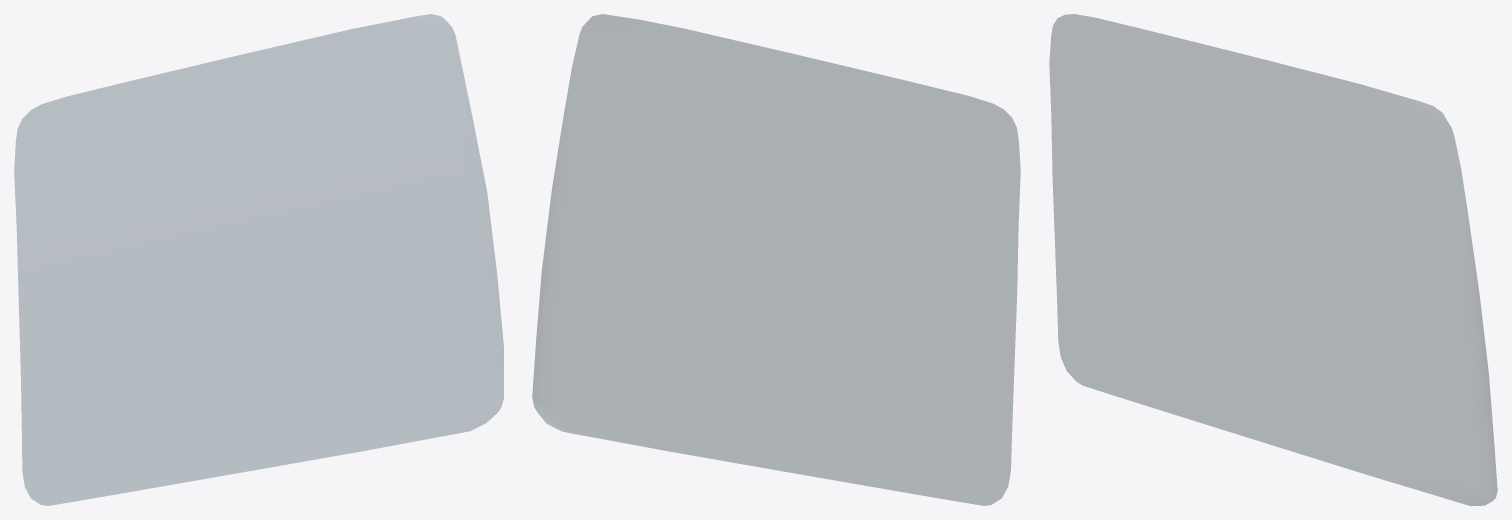
3 views of the same model, side by side, from view 1: azimuth 30°, elevation 25°; view 2: azimuth 150°, elevation 25°; view 3: azimuth 330°, elevation 25° (orthographic). The views are drawn at different scales.
Visible parts, largest first — view 1: SM_EuropeanHGV_Door_FL_Glass_Int2; view 2: SM_EuropeanHGV_Door_FL_Glass_Int2; view 3: SM_EuropeanHGV_Door_FL_Glass_Int2.
Boxes of the visible parts, <box> form: SM_EuropeanHGV_Door_FL_Glass_Int2: <box>14,14,503,505</box>; SM_EuropeanHGV_Door_FL_Glass_Int2: <box>532,14,1020,505</box>; SM_EuropeanHGV_Door_FL_Glass_Int2: <box>1049,14,1497,505</box>.
Bounding box in the file's own units: 0.964 × 0.8173 × 0.0124.
